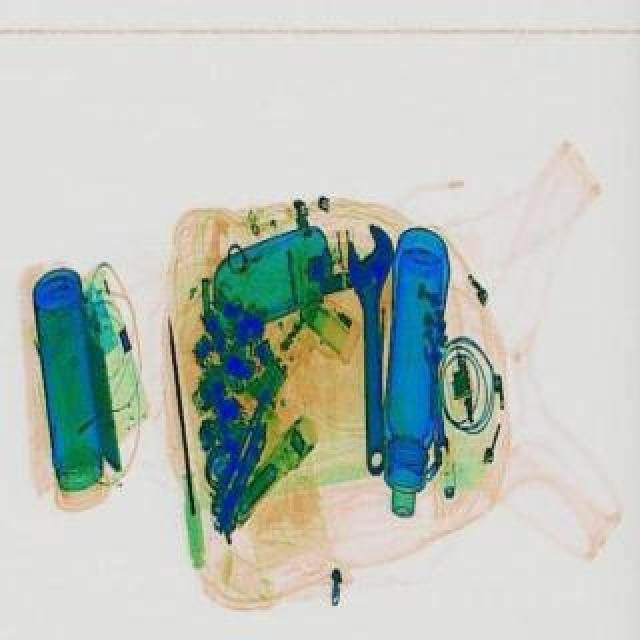scissors: (348, 222, 408, 474)
